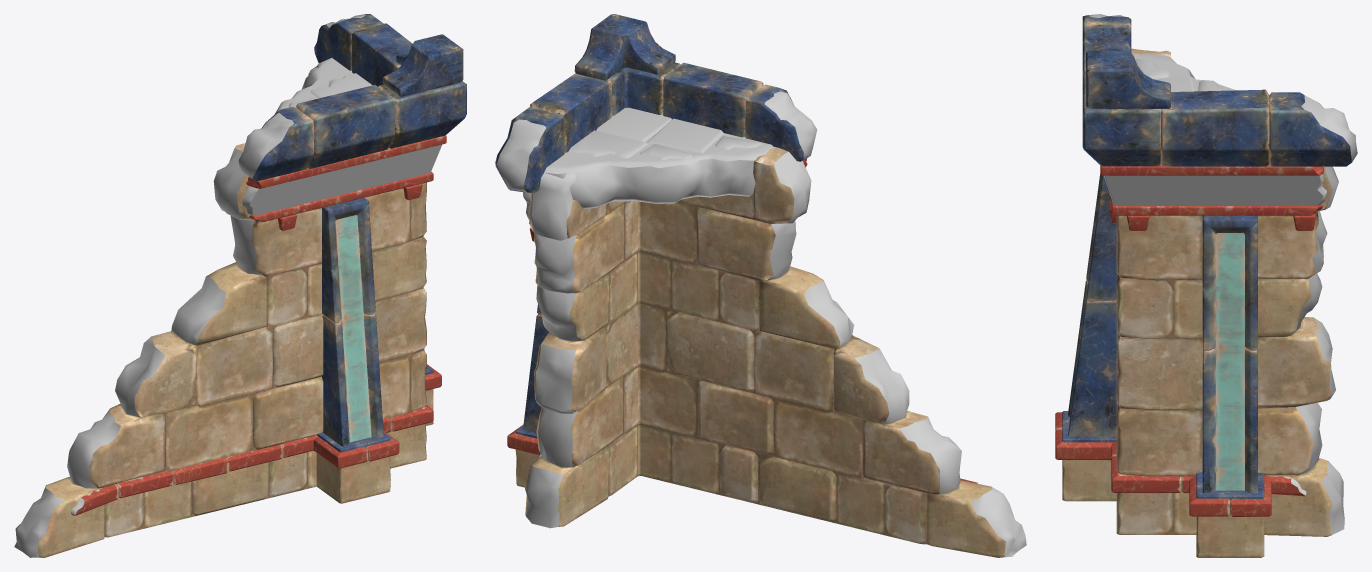
3 renders of one model, left to right at view 1: azimuth 30°, elevation 25°; view 2: azimuth 150°, elevation 25°; view 3: azimuth 270°, elevation 25°, orthographic. The views are drawn at different scales.
Visible parts, largest first — view 1: SM_Menaphite_Ruins_02_LOD0; view 2: SM_Menaphite_Ruins_02_LOD0; view 3: SM_Menaphite_Ruins_02_LOD0.
Boxes of the visible parts, box(x1,y1,x2,y2) form: SM_Menaphite_Ruins_02_LOD0: box(14, 14, 466, 557); SM_Menaphite_Ruins_02_LOD0: box(495, 14, 1026, 557); SM_Menaphite_Ruins_02_LOD0: box(1055, 14, 1357, 557).
Bounding box in the file's own units: 10.92 × 9.72 × 5.58.
